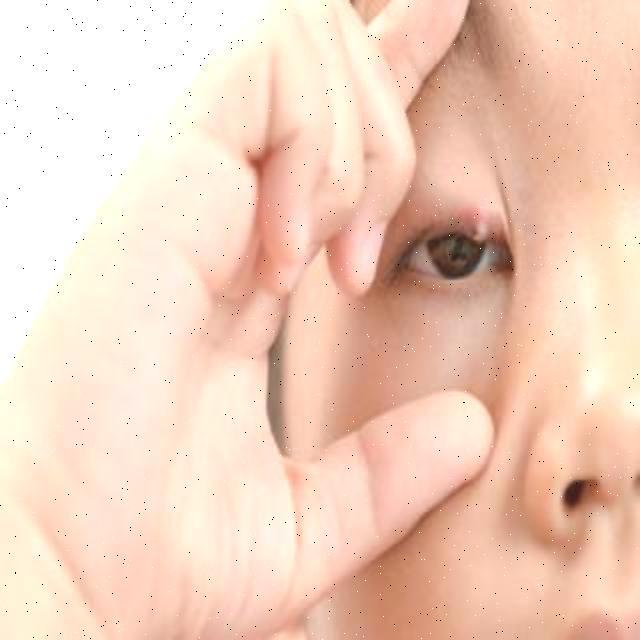Stye: (436, 192, 524, 265)
